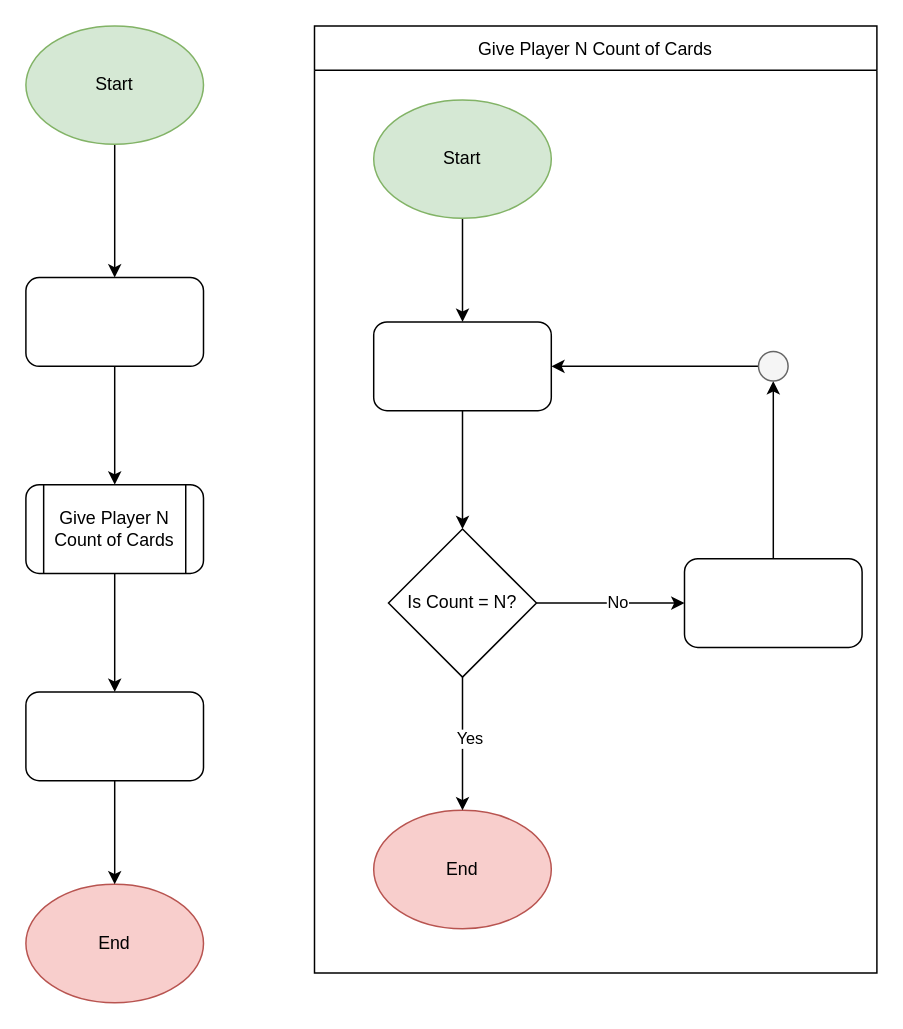
The diagram is 903 pixels wide and 1029 high, and some of its shapes have lost their labels. The shapes that lost their labels are listed below. From the top down, each one's centre as x and y in pixels, then its label:
the point at 114,321: Get Deck of Cards
the point at 461,365: Give Player 1 Card
the point at 772,602: Count of Cards
the point at 114,735: Player has Correct Number of Cards
